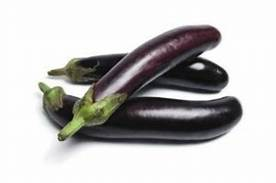fruit_eggplant: (57, 22, 223, 142), (33, 81, 248, 144), (45, 51, 230, 95)
